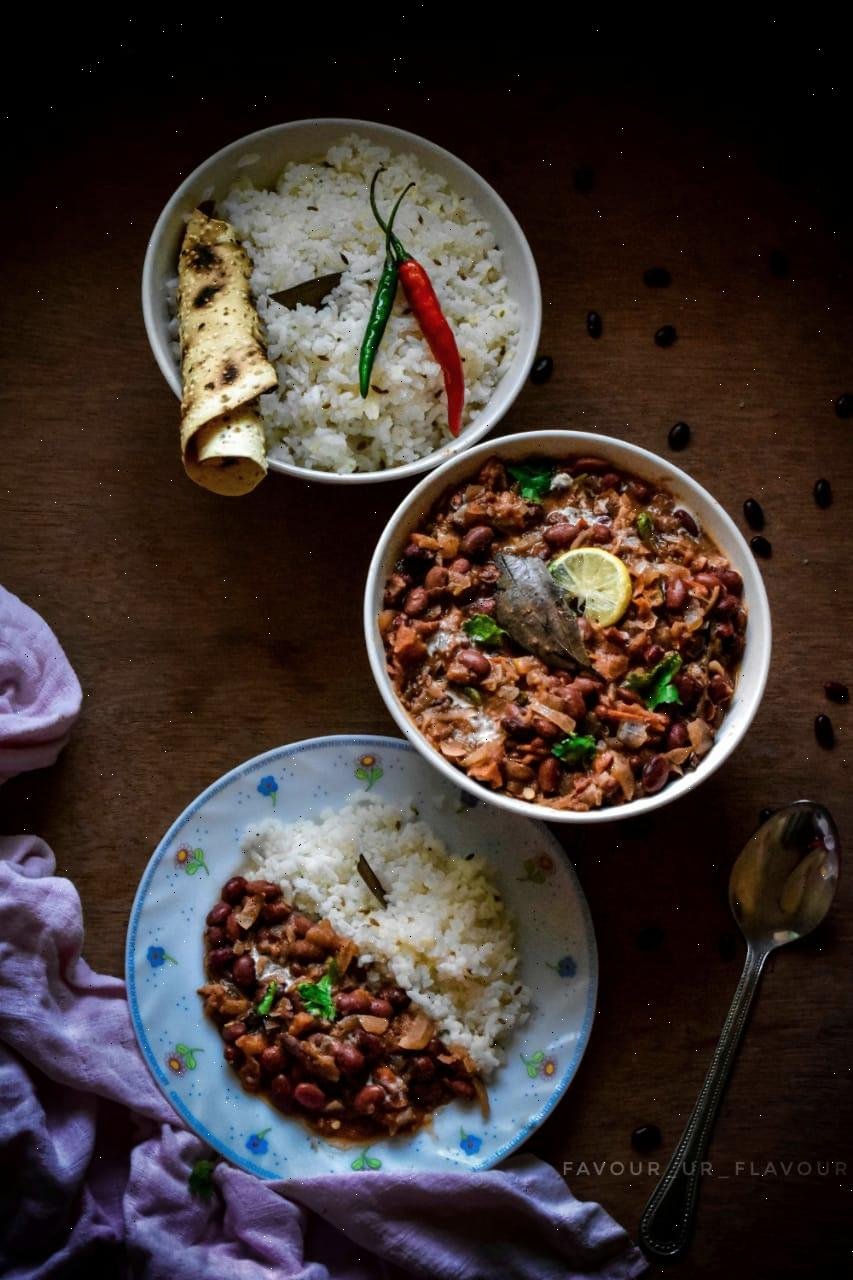rajma: (400, 487, 747, 813)
rice: (280, 170, 523, 477)
